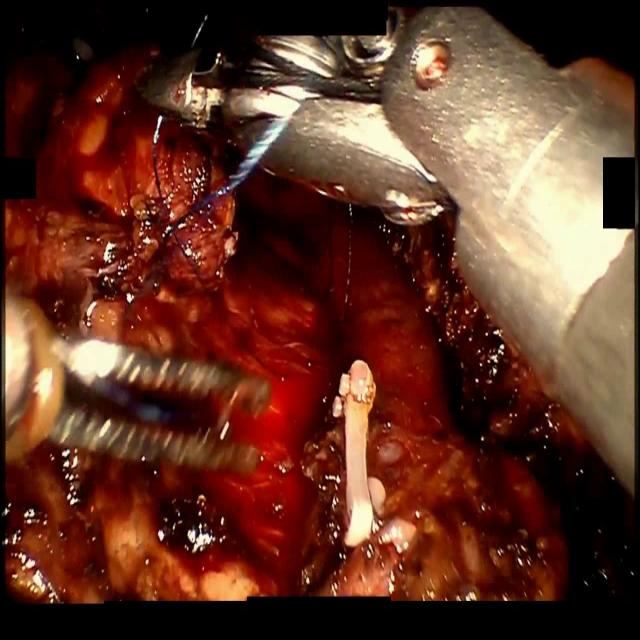surgical-area: (0, 34, 640, 604)
surgical-tool: (136, 3, 637, 503)
